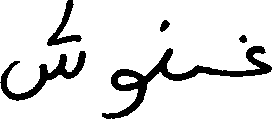ش: (0, 0, 85, 102)
غ: (234, 33, 270, 77)
ن: (158, 17, 172, 80)
و: (108, 67, 146, 117)
